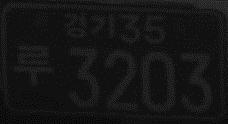0: (141, 50, 175, 115)
2: (104, 47, 139, 111)
3: (178, 50, 212, 114), (67, 45, 100, 110), (118, 12, 140, 44)
5: (143, 13, 166, 45)
경기_O: (62, 11, 116, 39)
루: (13, 44, 53, 85)
